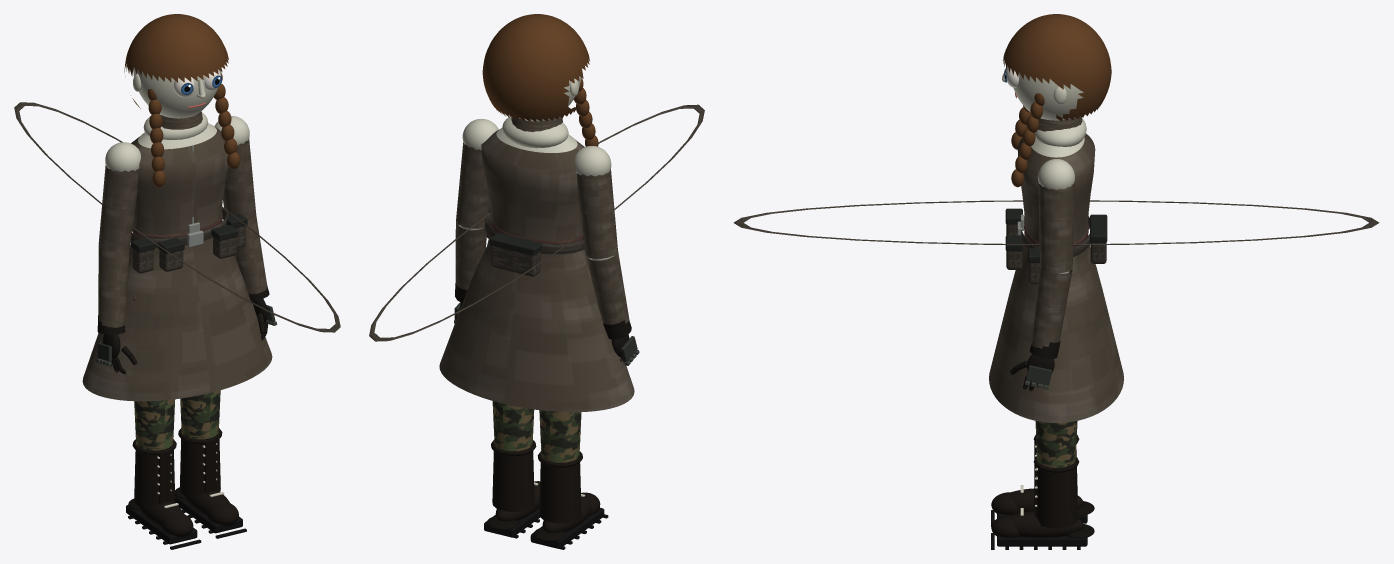
The model's file is 00-survivant-atypique.glb.
3 views of the same model, side by side, from view 1: azimuth 30°, elevation 25°; view 2: azimuth 150°, elevation 25°; view 3: azimuth 270°, elevation 25° (orthographic). The views are drawn at different scales.
Size of what is drawn, in the model's own units: 0.6638 by 1.78 by 2.03.
27 materials, 6 textured.
